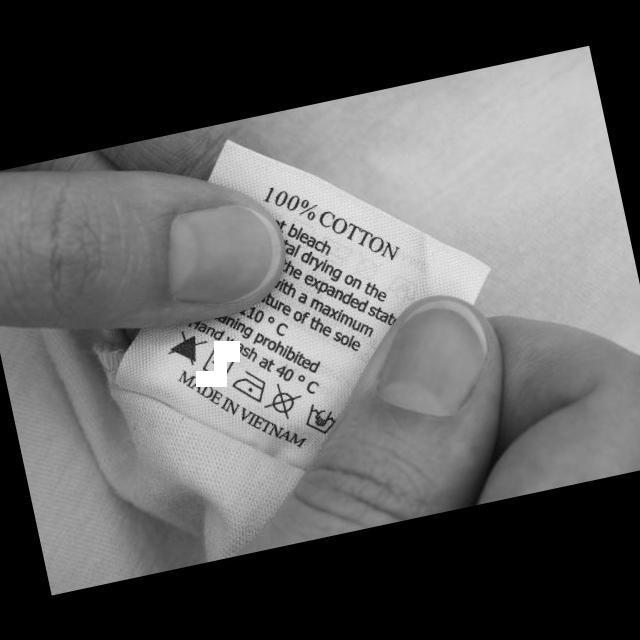DN_bleach: (160, 320, 213, 371)
DN_dry_clean: (259, 378, 307, 426)
hand_wash: (298, 396, 344, 438)
iron_low: (227, 362, 271, 408)
